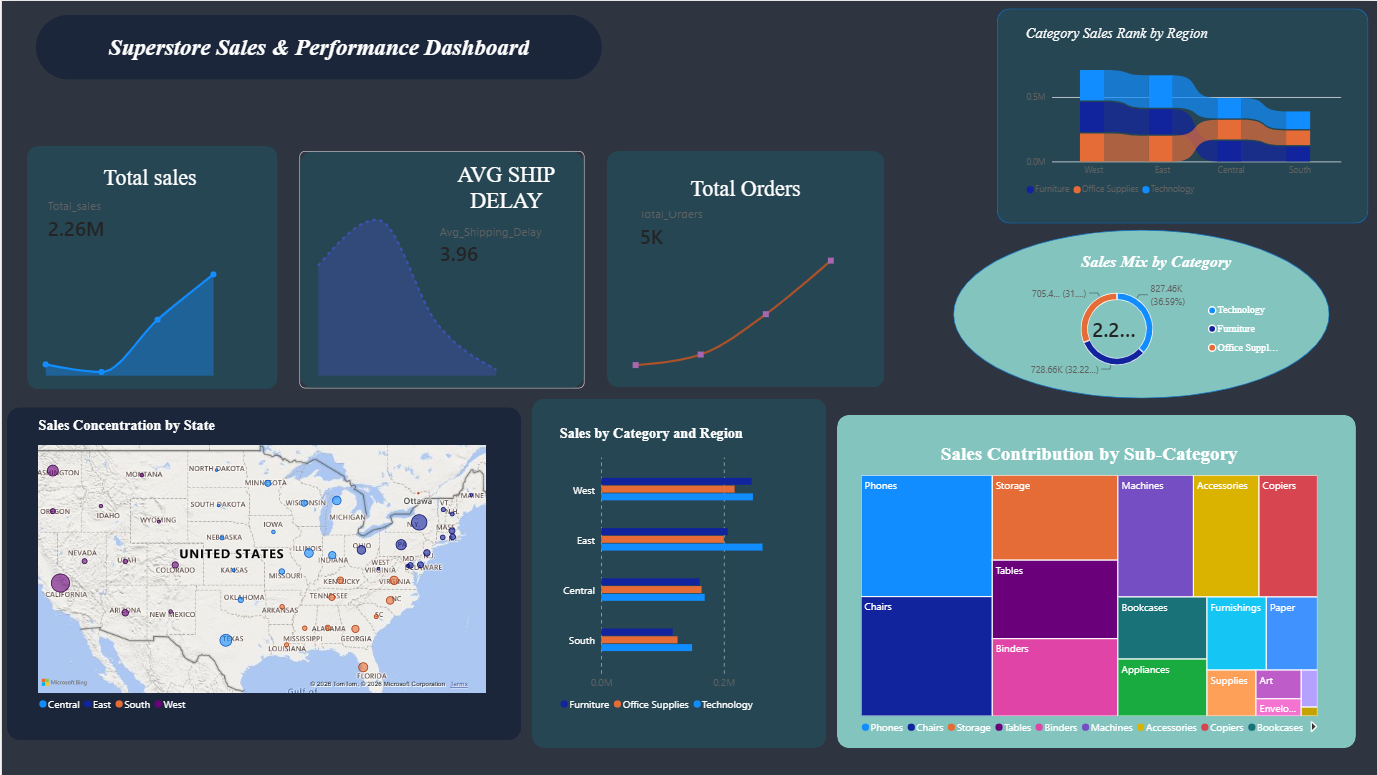

This screenshot's page, from the dashboard's own definition file:
{"tool":"powerbi","page":{"name":"Page 1","canvas":[1920,1080],"ordinal":0},"visuals":[{"type":"shape","box":[415.1,209.3,397.7,331.4],"z":0},{"type":"shape","box":[844.2,209.3,387.2,329.7],"z":1000},{"type":"shape","box":[738.8,555.1,411.1,487.7],"z":2000},{"type":"shape","box":[34.9,202.3,349.8,339.6],"z":3000},{"type":"shape","box":[6.3,567.7,717.4,464.7],"z":4000},{"type":"shape","box":[1164.5,578.1,724.2,465.4],"z":5000},{"type":"shape","box":[1388.4,10.5,518,300],"z":5500},{"type":"shape","box":[1327.3,319.2,525,235.5],"z":6000},{"type":"lineChart","fields":{"Category":["cleaned_superstore.order_date.Variation.Date Hierarchy.Year","cleaned_superstore.order_date.Variation.Date Hierarchy.Quarter","cleaned_superstore.order_date.Variation.Date Hierarchy.Month","cleaned_superstore.order_date.Variation.Date Hierarchy.Day"],"Y":["cleaned_superstore.Avg_Shipping_Delay"]},"box":[415.1,275.6,300.5,263.5],"z":7000},{"type":"cardVisual","title":"AVG SHIP DELAY","fields":{"Data":["cleaned_superstore.Avg_Shipping_Delay"]},"box":[594.8,225,218,150],"z":8000},{"type":"cardVisual","title":"Total sales","fields":{"Data":["cleaned_superstore.Total_sales"]},"box":[47.1,228.5,317.4,106.4],"z":9000},{"type":"lineChart","fields":{"Category":["cleaned_superstore.order_date.Variation.Date Hierarchy.Year","cleaned_superstore.order_date.Variation.Date Hierarchy.Quarter","cleaned_superstore.order_date.Variation.Date Hierarchy.Month","cleaned_superstore.order_date.Variation.Date Hierarchy.Day"],"Y":["cleaned_superstore.Total_sales"]},"box":[34.9,343.6,286.1,195.5],"z":10000},{"type":"lineChart","fields":{"Category":["cleaned_superstore.order_date.Variation.Date Hierarchy.Year","cleaned_superstore.order_date.Variation.Date Hierarchy.Quarter","cleaned_superstore.order_date.Variation.Date Hierarchy.Month","cleaned_superstore.order_date.Variation.Date Hierarchy.Day"],"Y":["cleaned_superstore.Total_Orders"]},"box":[858.1,310.5,324.4,244.2],"z":11000},{"type":"cardVisual","title":"Total Orders","fields":{"Data":["cleaned_superstore.Total_Orders"]},"box":[873.8,244.2,327.3,96.7],"z":12000},{"type":"donutChart","title":"Sales Mix by Category","fields":{"Category":["cleaned_superstore.category"],"Y":["cleaned_superstore.Total_sales"]},"box":[1412.8,336.6,395.9,202.3],"z":13000},{"type":"clusteredBarChart","title":"Sales by Category and Region","fields":{"Category":["cleaned_superstore.region"],"Series":["cleaned_superstore.category"],"Y":["cleaned_superstore.Total_sales"]},"box":[761.7,578.1,362.6,434],"z":14000},{"type":"ribbonChart","title":"Category Sales Rank by Region","fields":{"Category":["cleaned_superstore.region"],"Series":["cleaned_superstore.category"],"Y":["cleaned_superstore.Total_sales"]},"box":[1412.8,19.2,471.7,273.4],"z":15000},{"type":"map","title":"Sales Concentration by State","fields":{"Category":["cleaned_superstore.state"],"Series":["cleaned_superstore.region"],"Size":["cleaned_superstore.Total_sales"]},"box":[35.5,567.7,656.2,444.3],"z":16000},{"type":"treemap","title":"Sales Contribution by Sub-Category","fields":{"Group":["cleaned_superstore.sub-category"],"Values":["cleaned_superstore.Total_sales"]},"box":[1183.3,601,668.9,441.7],"z":17001},{"type":"shape","box":[47.1,19.2,790.1,90.7],"z":17002}]}

Visuals, with their boxes in screenshot pixels (x1, y1, x2, y2), scaled from the page's 1920x1080 canvas onto the 1377x775 screenshot:
shape: [left=298, top=150, right=583, bottom=388]
shape: [left=605, top=150, right=883, bottom=387]
shape: [left=530, top=398, right=825, bottom=748]
shape: [left=25, top=145, right=276, bottom=389]
shape: [left=5, top=407, right=519, bottom=741]
shape: [left=835, top=415, right=1355, bottom=749]
shape: [left=996, top=8, right=1367, bottom=223]
shape: [left=952, top=229, right=1328, bottom=398]
lineChart - cleaned_superstore.order_date.Variation.Date Hierarchy.Year x cleaned_superstore.order_date.Variation.Date Hierarchy.Quarter: [left=298, top=198, right=513, bottom=387]
"AVG SHIP DELAY" cardVisual: [left=427, top=161, right=583, bottom=269]
"Total sales" cardVisual: [left=34, top=164, right=261, bottom=240]
lineChart - cleaned_superstore.order_date.Variation.Date Hierarchy.Year x cleaned_superstore.order_date.Variation.Date Hierarchy.Quarter: [left=25, top=247, right=230, bottom=387]
lineChart - cleaned_superstore.order_date.Variation.Date Hierarchy.Year x cleaned_superstore.order_date.Variation.Date Hierarchy.Quarter: [left=615, top=223, right=848, bottom=398]
"Total Orders" cardVisual: [left=627, top=175, right=861, bottom=245]
"Sales Mix by Category" donutChart: [left=1013, top=242, right=1297, bottom=387]
"Sales by Category and Region" clusteredBarChart: [left=546, top=415, right=806, bottom=726]
"Category Sales Rank by Region" ribbonChart: [left=1013, top=14, right=1352, bottom=210]
"Sales Concentration by State" map: [left=25, top=407, right=496, bottom=726]
"Sales Contribution by Sub-Category" treemap: [left=849, top=431, right=1328, bottom=748]
shape: [left=34, top=14, right=600, bottom=79]
